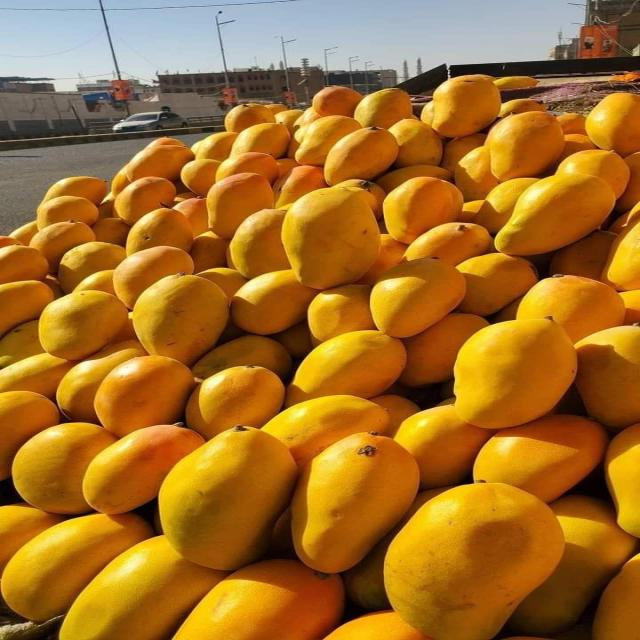mango: (384, 483, 564, 639), (159, 426, 296, 570), (509, 496, 637, 635), (292, 434, 418, 572), (60, 536, 226, 639), (1, 514, 152, 620), (174, 559, 343, 639), (343, 486, 450, 610), (455, 319, 576, 428), (473, 415, 607, 502), (81, 425, 204, 514), (496, 174, 615, 255), (282, 189, 379, 288), (12, 422, 116, 513), (263, 395, 389, 468), (286, 330, 406, 406), (133, 273, 229, 365), (394, 405, 492, 488), (95, 356, 194, 437), (56, 340, 147, 423), (370, 258, 465, 337), (186, 365, 285, 439), (517, 275, 624, 342), (576, 326, 639, 430), (400, 313, 488, 386), (39, 291, 127, 360), (231, 269, 318, 334), (487, 112, 564, 181), (0, 391, 59, 479), (456, 253, 537, 316), (113, 246, 193, 308), (384, 177, 458, 243), (325, 126, 399, 185), (0, 503, 63, 572), (192, 336, 291, 379), (208, 173, 273, 238), (432, 75, 500, 137), (590, 554, 639, 639), (230, 209, 289, 278), (308, 284, 375, 344), (404, 222, 492, 266), (605, 424, 639, 536), (557, 150, 631, 198), (58, 241, 126, 293), (474, 178, 538, 233), (30, 220, 96, 272), (0, 353, 76, 398), (586, 93, 639, 156), (296, 115, 361, 166), (549, 231, 615, 280), (126, 208, 193, 255), (0, 280, 53, 335), (325, 611, 429, 639), (115, 177, 175, 225), (601, 216, 639, 290), (356, 233, 407, 285), (389, 118, 442, 167), (455, 145, 499, 201), (125, 146, 194, 181), (353, 88, 412, 128), (274, 166, 327, 207), (376, 165, 453, 193), (231, 122, 290, 158), (0, 320, 44, 368), (371, 394, 420, 436), (37, 196, 98, 229), (216, 152, 279, 183), (336, 179, 385, 218), (0, 245, 48, 284), (440, 133, 486, 173), (43, 177, 107, 204), (196, 267, 247, 300), (190, 231, 229, 272), (224, 103, 274, 133), (312, 86, 362, 116), (273, 322, 313, 359), (181, 159, 220, 196), (616, 152, 640, 212), (174, 197, 208, 237), (195, 131, 238, 161), (92, 218, 129, 246), (559, 134, 597, 161), (74, 270, 115, 295), (499, 98, 546, 117), (493, 296, 523, 323), (9, 220, 38, 245), (275, 109, 303, 134), (110, 166, 131, 197), (620, 290, 639, 324), (493, 76, 539, 89), (457, 200, 484, 222), (557, 113, 585, 134), (43, 274, 64, 298), (276, 158, 300, 177), (147, 137, 185, 147), (420, 100, 434, 125), (264, 104, 287, 116), (0, 236, 23, 247)
